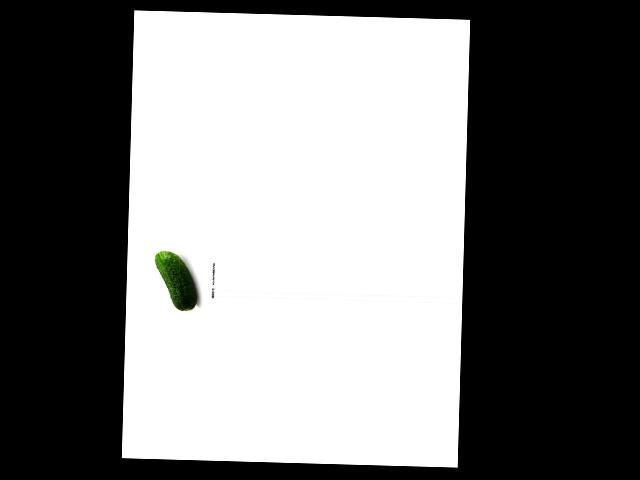cucumber: (153, 251, 198, 311)
